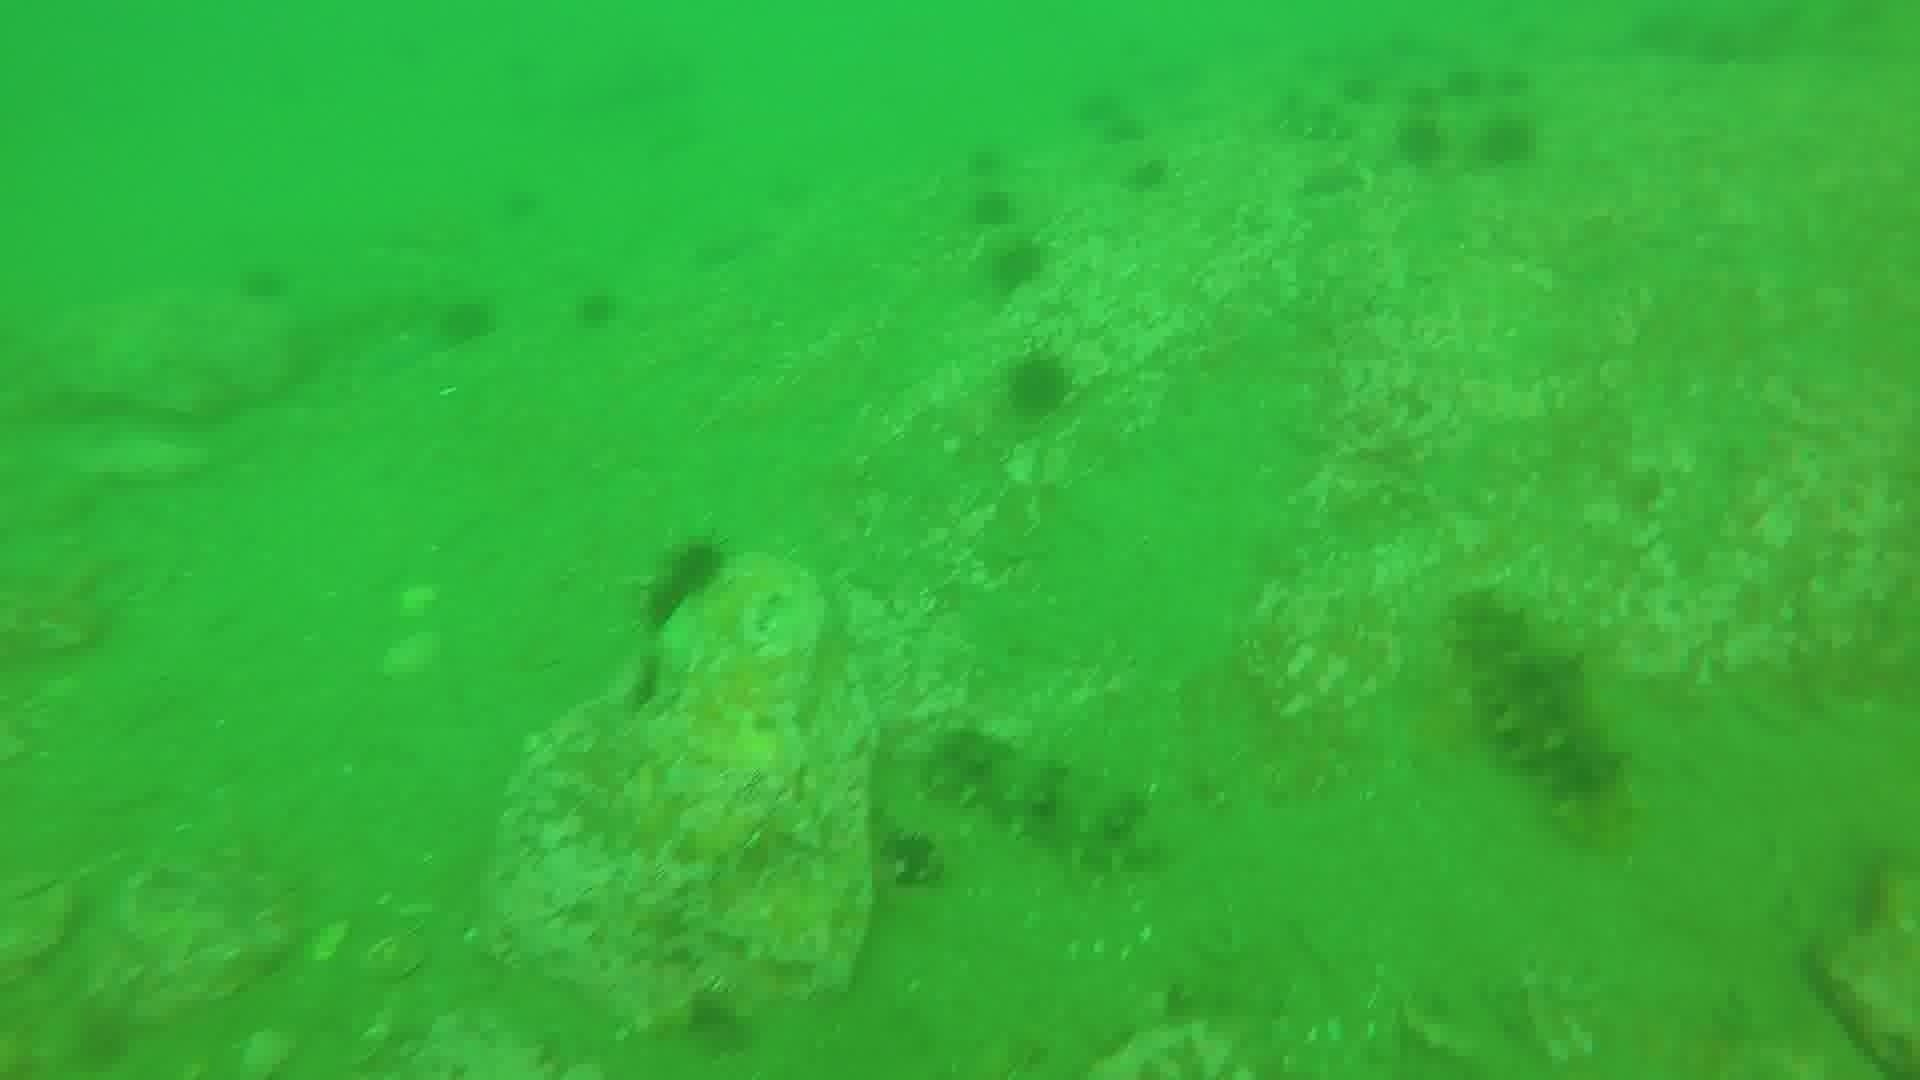echinus: (633, 534, 735, 637), (998, 349, 1077, 425), (982, 235, 1051, 297), (430, 293, 501, 352), (1473, 112, 1542, 171), (1391, 113, 1451, 171), (568, 284, 624, 334), (964, 185, 1021, 233), (1120, 152, 1174, 196)
holothurian: (1444, 588, 1640, 853), (920, 724, 1164, 878), (1265, 84, 1371, 148)
starfish: (1294, 156, 1371, 203)
